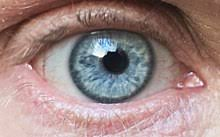e.other: (70, 24, 151, 105)
